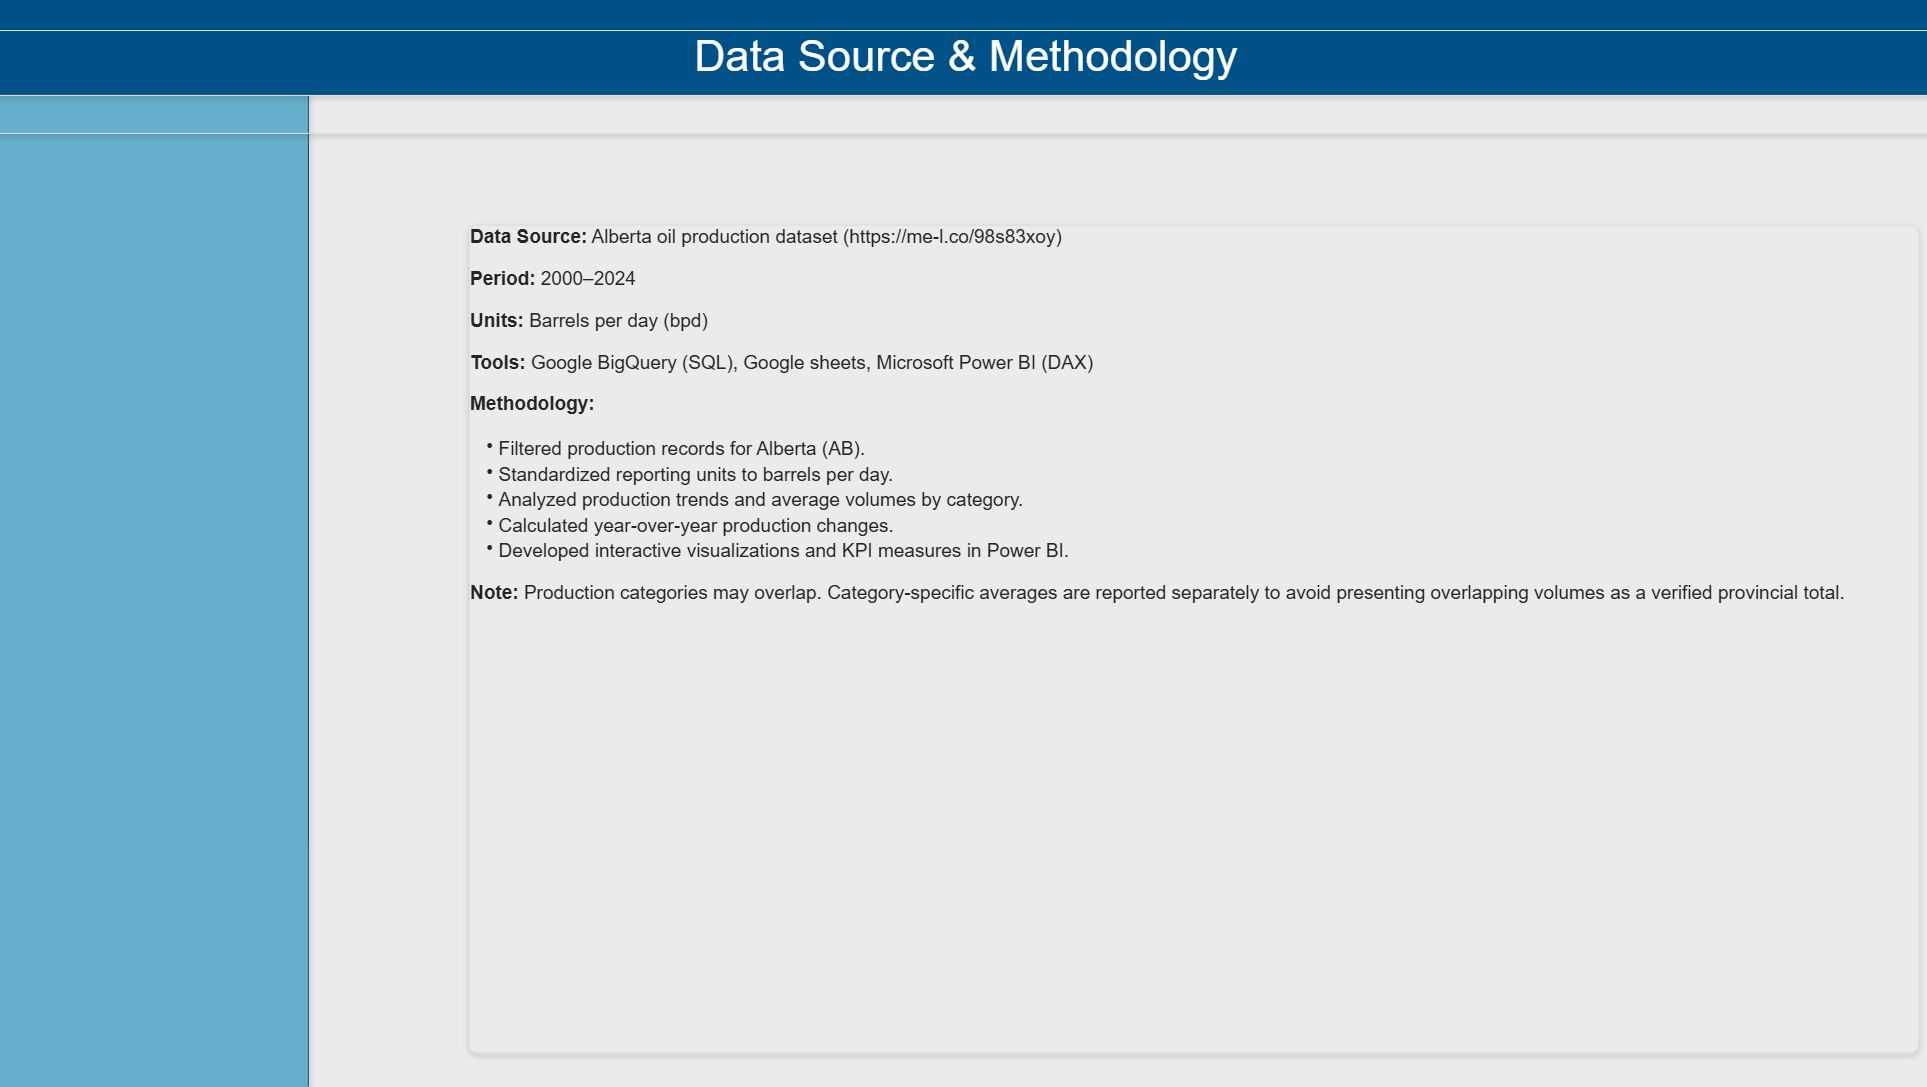

Layout of this report page (visuals, bound fields, positions):
{"tool":"powerbi","page":{"name":"Data Source & Methodology","canvas":[1920,1080],"ordinal":2},"visuals":[{"type":"shape","box":[0,0,316,1080.2],"z":1000},{"type":"shape","box":[0,0,1919.8,102.5],"z":1500},{"type":"textbox","box":[0,37.3,1920,102.4],"z":2000},{"type":"textbox","box":[472.5,228.8,1422.8,812.8],"z":2001}]}

Visuals, with their boxes in screenshot pixels (x1, y1, x2, y2), scaled from the page's 1920x1080 canvas onto the 1927x1087 screenshot:
shape: (left=0, top=0, right=317, bottom=1086)
shape: (left=0, top=0, right=1926, bottom=103)
textbox: (left=0, top=38, right=1926, bottom=141)
textbox: (left=474, top=230, right=1902, bottom=1048)
